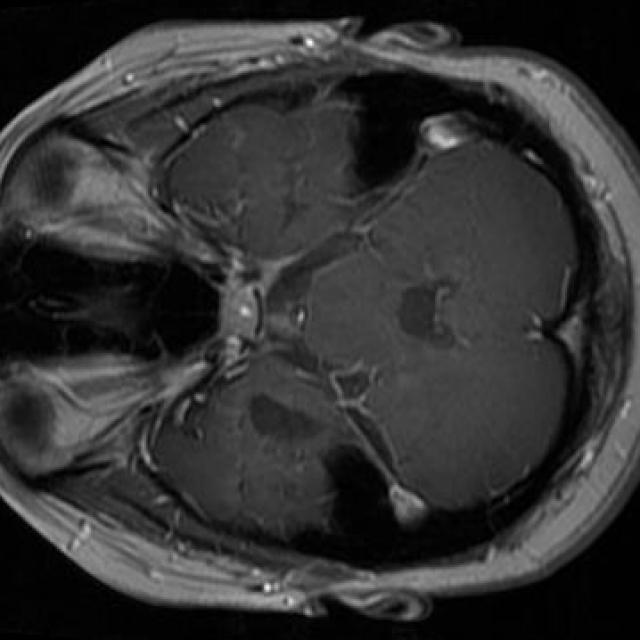glioma: (250, 394, 323, 442)
